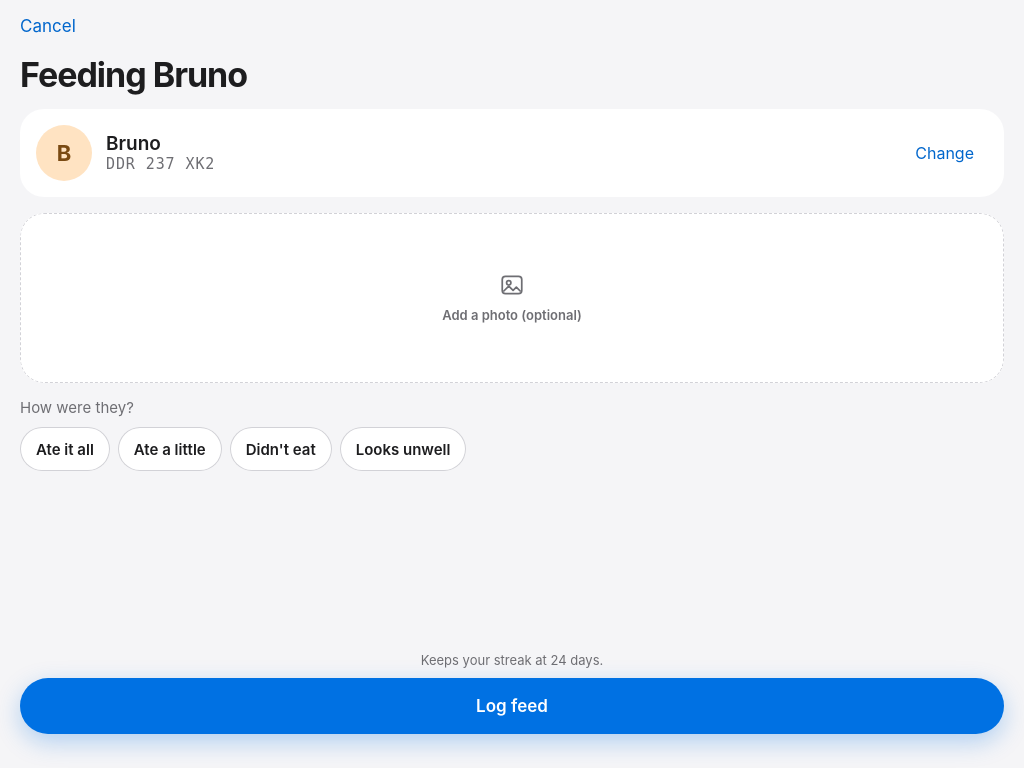
Test: Log a feed › says the feed is saved on the phone when it stays pending online
Step 1. Click the button "Log feed" → (512, 706), box [20, 678, 1004, 734]
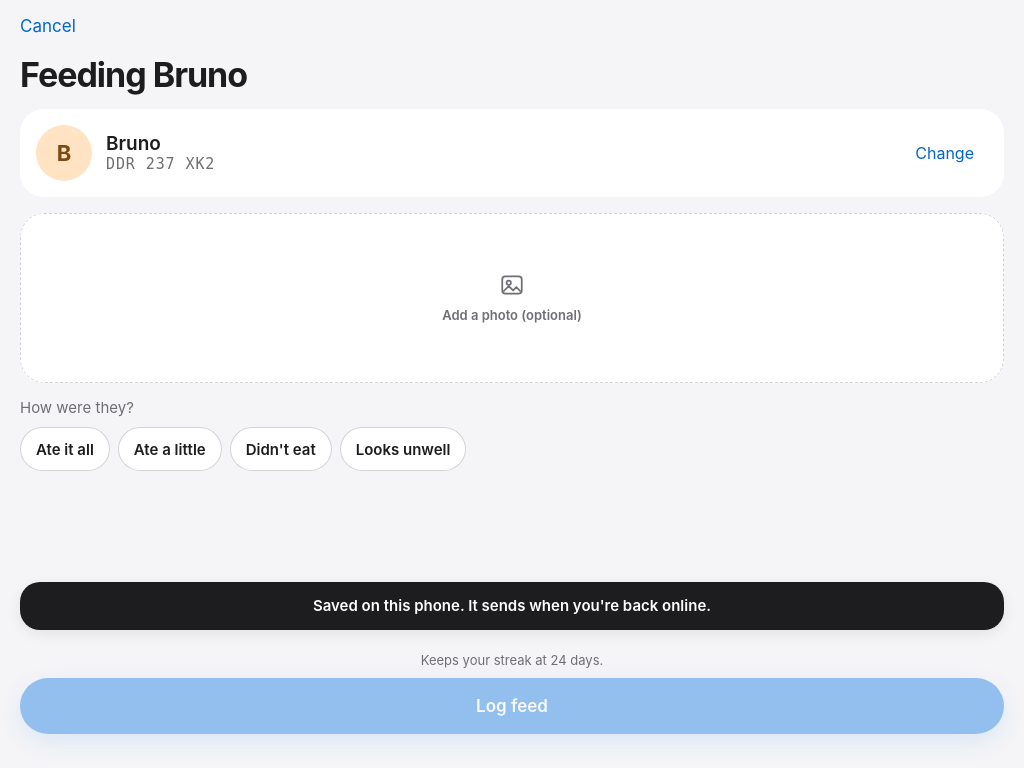
Check: the text "Saved on this phone. It sends when you're back online." is shown, box [20, 582, 1004, 630]
